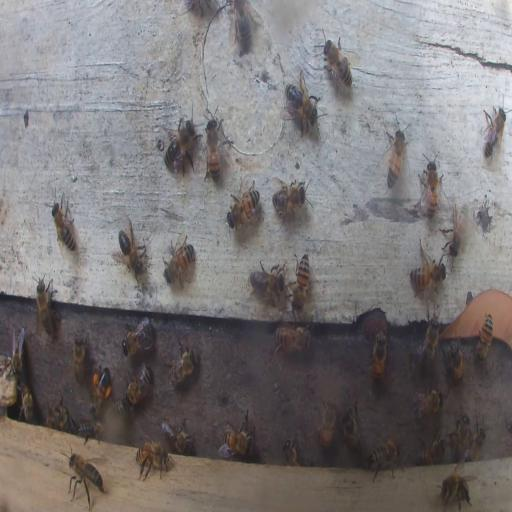nonpollenbee: (282, 71, 323, 133), (160, 116, 199, 174), (66, 450, 104, 504), (163, 232, 196, 290), (164, 335, 198, 389), (322, 34, 354, 89), (414, 312, 442, 374), (50, 190, 77, 254), (116, 220, 146, 277), (408, 250, 446, 294), (248, 260, 286, 302), (34, 277, 60, 338), (418, 153, 443, 216), (481, 107, 507, 164), (368, 436, 400, 482), (385, 119, 406, 188), (437, 469, 472, 509), (272, 178, 308, 216), (228, 187, 259, 230), (443, 202, 468, 255), (135, 439, 168, 479), (220, 420, 254, 458), (161, 416, 194, 454), (204, 115, 222, 183), (121, 318, 155, 354), (340, 402, 363, 455), (412, 384, 444, 419), (292, 250, 310, 310), (126, 364, 152, 405), (274, 325, 312, 352), (460, 424, 486, 461), (318, 398, 336, 450), (415, 434, 446, 464), (369, 332, 387, 383), (443, 340, 464, 382), (476, 314, 494, 362), (235, 2, 252, 48), (10, 324, 25, 376), (72, 333, 87, 385), (78, 422, 104, 446), (48, 403, 71, 429), (19, 382, 33, 422), (282, 438, 298, 466), (459, 417, 471, 451)
pollenbee: (90, 366, 112, 414)
